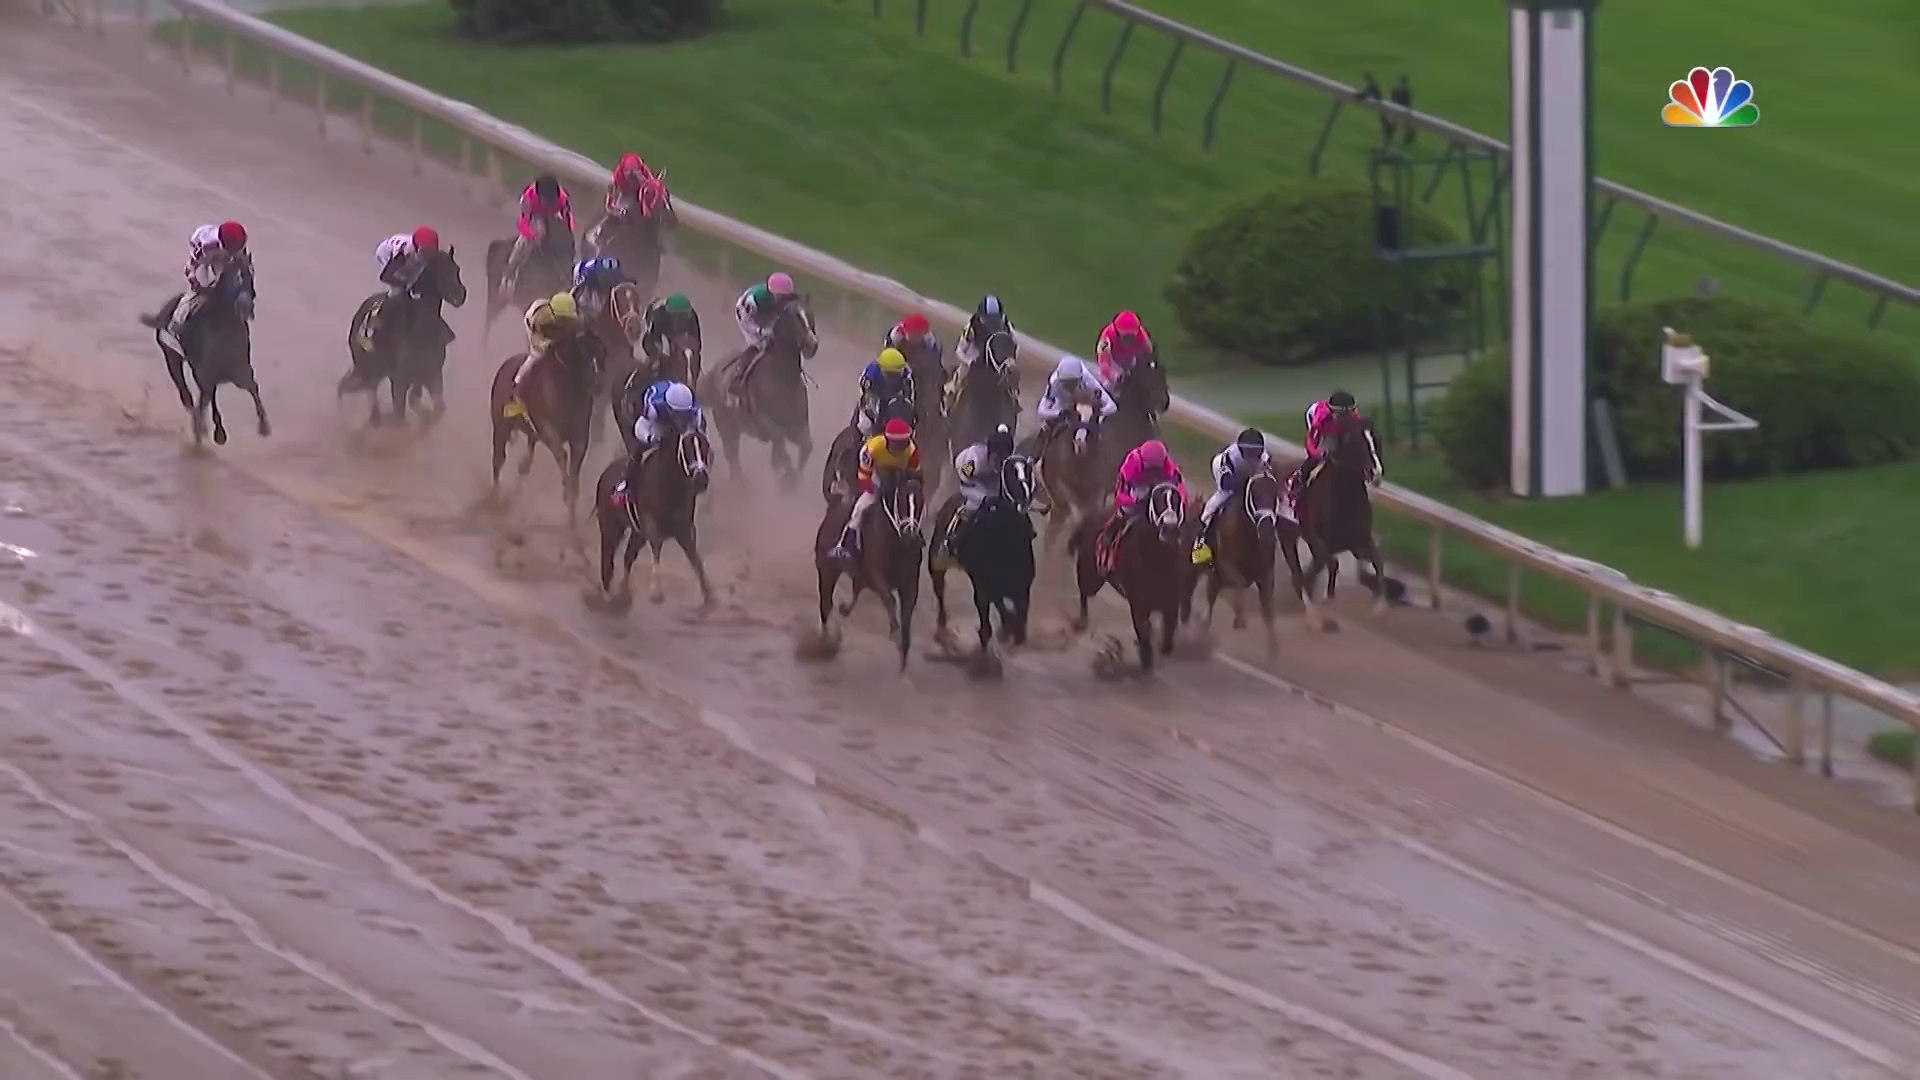jockey: (847, 422, 920, 575), (1195, 433, 1276, 556), (624, 386, 696, 524), (1108, 440, 1184, 566), (949, 435, 1023, 553), (1296, 394, 1369, 513), (733, 272, 800, 400), (372, 232, 439, 353), (1039, 359, 1110, 472), (949, 294, 1013, 418), (516, 299, 583, 414), (880, 316, 943, 434), (181, 222, 251, 327), (1091, 314, 1159, 415), (516, 174, 571, 281), (855, 353, 906, 454), (641, 294, 702, 378), (601, 154, 651, 255), (574, 255, 622, 331)
